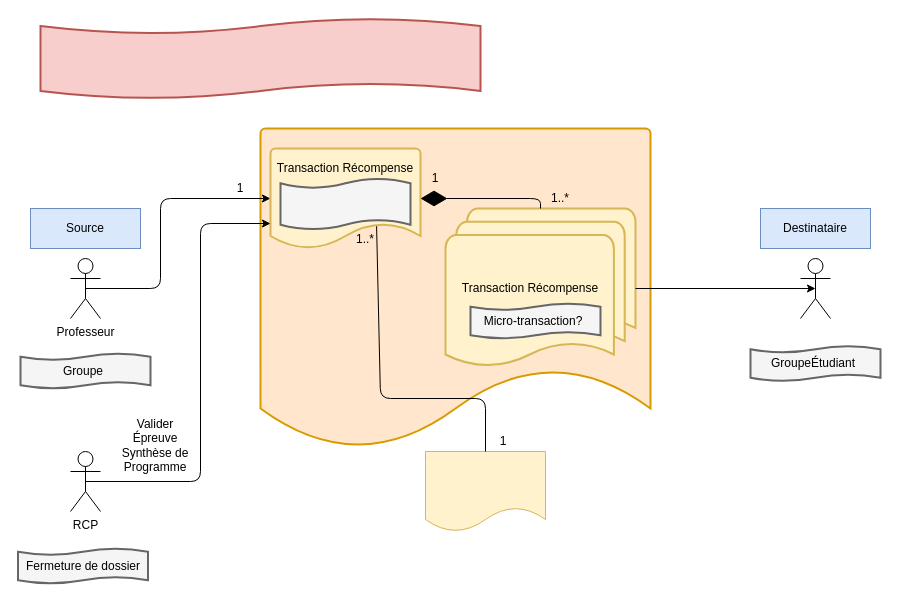
Some shapes in this 899 by 601 pixel diagram are drawn without their labels. The centre of each missing label's shape, as x and y in pixels:
Processus? Transaction "Master"?: (x=345, y=203)
Récompense: (x=485, y=491)
Schéma Récompense (ex. Remettre un devoir): (x=260, y=58)
Étudiant: (x=815, y=288)
